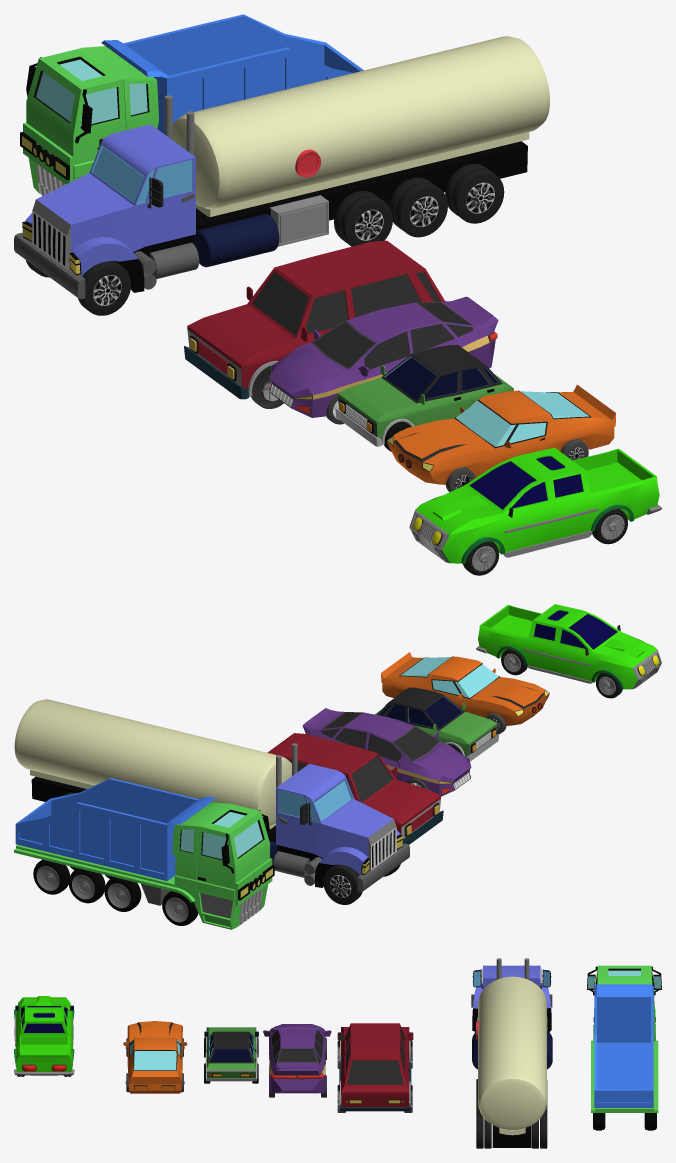
File: car3.fbx
The picture shows the model from 3 angles, top to bottom: view 1: azimuth 30°, elevation 25°; view 2: azimuth 150°, elevation 25°; view 3: azimuth 270°, elevation 25°; orthographic projection. The views are drawn at different scales.
Parts seen in each view (by area): view 1: gas, Prycep, Kyzov.001, kyzov, CAR, Cube.002, Kyzov, Cube, koleso, black.001, Glass, Kyzov nuz (+20 smaller); view 2: gas, Prycep, Kyzov, Kyzov.001, kyzov, CAR, Cube.002, Cube, Koleso.002, Glass.002, Disk.002, grey+ (+17 smaller); view 3: gas, Prycep, CAR, Kyzov.001, Cube.002, Cube, Kyzov, Glass, Kyzov nuz, koleso, kyzov, glass (+12 smaller).
Part boxes in pixels (x1,y1,x2,y2): gas: (172,36,549,216); Prycep: (101,14,363,133); Kyzov.001: (415,447,659,563); kyzov: (25,124,195,275); CAR: (187,240,445,389); Cube.002: (386,384,615,484); Kyzov: (23,46,158,192); Cube: (269,296,498,417); koleso: (26,163,504,315); black.001: (115,141,527,292); Glass: (252,272,440,335); Kyzov nuz: (338,365,513,439); gas: (14,699,291,829); Prycep: (15,778,215,880); Kyzov: (14,802,272,929); Kyzov.001: (478,604,657,689); kyzov: (276,763,400,874); CAR: (267,733,440,834); Cube.002: (381,652,549,725); Cube: (302,708,471,796); Koleso.002: (33,859,198,925); Glass.002: (321,713,437,761); Disk.002: (36,866,188,922); grey+: (273,843,409,892); gas: (478,976,546,1135); Prycep: (594,984,653,1107); CAR: (337,1023,413,1107); Kyzov.001: (15,996,72,1071); Cube.002: (123,1021,187,1093); Cube: (263,1024,331,1093); Kyzov: (591,965,658,1112); Glass: (338,1028,404,1084); Kyzov nuz: (204,1027,258,1078); koleso: (474,1031,550,1148); kyzov: (473,965,550,1008); glass: (129,1039,180,1070).
Size of the model in its own units: 962 by 366 by 1766.
